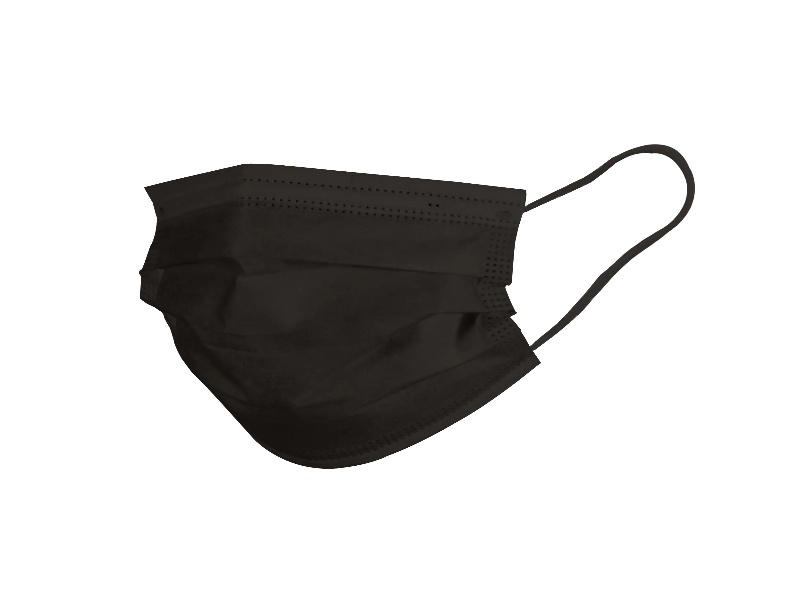mask: (136, 160, 541, 476)
